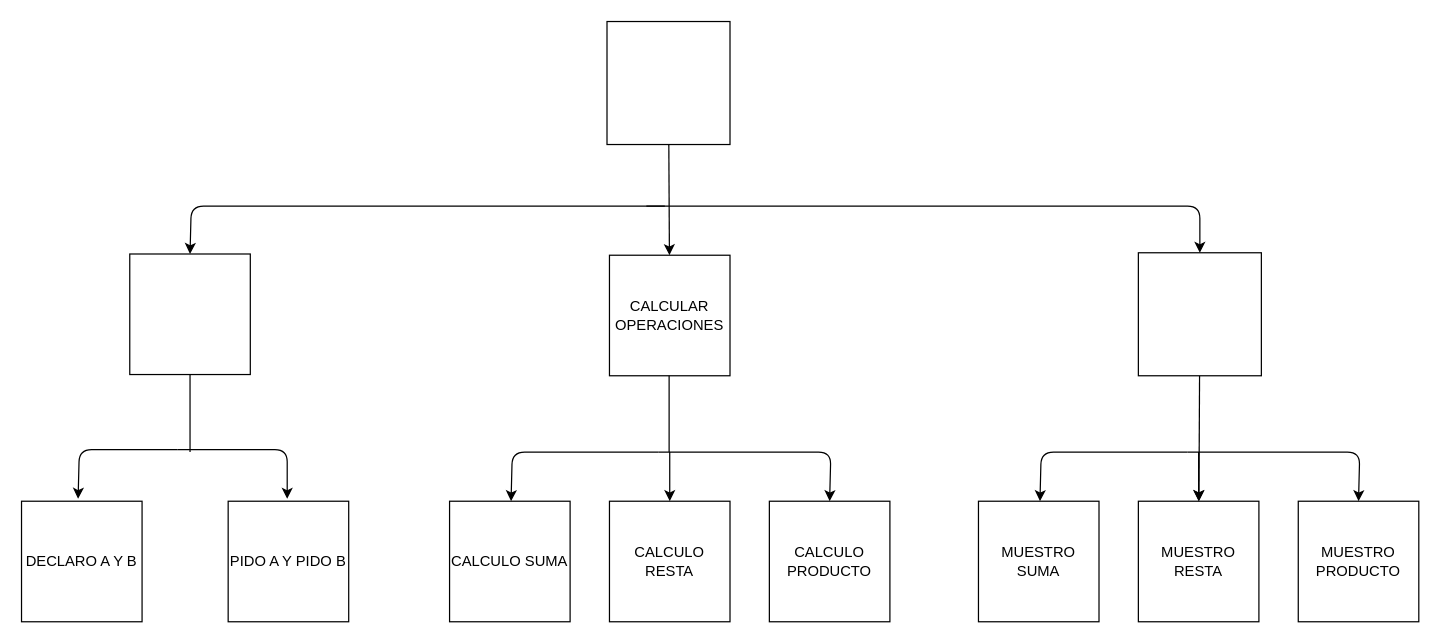
Image size: 1440x643. Some labels were removed from this diagram. Each missing label, with the centre of its shape:
"MOSTRAR LOS DATOS" belongs at (x=1199, y=314).
"PEDIR LOS DATOS" belongs at (x=189, y=314).
"SUMA, RESTA Y PRODUCTO" belongs at (x=668, y=82).
